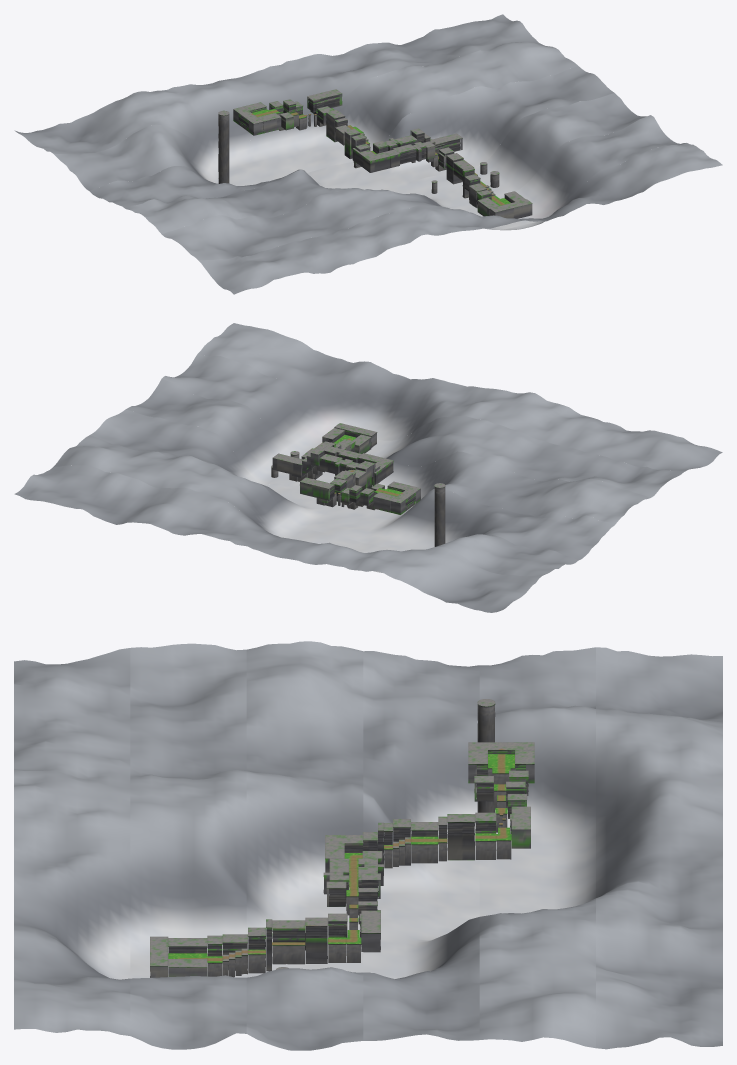
File: eagle_cliffs_terrain.glb
The picture shows the model from 3 angles, top to bottom: view 1: azimuth 30°, elevation 25°; view 2: azimuth 150°, elevation 25°; view 3: azimuth 270°, elevation 25°; orthographic projection. The views are drawn at different scales.
Visible parts, largest first — view 1: backdrop_4, backdrop_5, backdrop_1, backdrop_3, backdrop_0, backdrop_2, terrain_J, terrain_F, terrain_E, terrain_A, terrain_D, terrain_C (+4 smaller); view 2: backdrop_0, backdrop_5, backdrop_1, backdrop_3, backdrop_2, backdrop_4, terrain_J, terrain_D, terrain_H, terrain_A, terrain_F, terrain_E (+1 smaller); view 3: backdrop_5, backdrop_0, backdrop_1, backdrop_2, backdrop_4, backdrop_3, terrain_F, terrain_D, terrain_J, terrain_C, terrain_B, terrain_G (+4 smaller).
Part boxes in pixels (bbox=[...]): backdrop_4: bbox=[53, 42, 577, 190]; backdrop_5: bbox=[14, 14, 541, 153]; backdrop_1: bbox=[162, 115, 685, 260]; backdrop_3: bbox=[89, 66, 614, 208]; backdrop_0: bbox=[198, 143, 722, 294]; backdrop_2: bbox=[126, 93, 646, 234]; terrain_J: bbox=[218, 102, 281, 183]; terrain_F: bbox=[335, 125, 390, 172]; terrain_E: bbox=[373, 135, 426, 167]; terrain_A: bbox=[477, 191, 532, 218]; terrain_D: bbox=[410, 128, 462, 171]; terrain_C: bbox=[431, 152, 499, 193]; backdrop_0: bbox=[198, 323, 722, 470]; backdrop_5: bbox=[14, 465, 541, 612]; backdrop_1: bbox=[162, 353, 685, 497]; backdrop_3: bbox=[90, 409, 614, 560]; backdrop_2: bbox=[126, 379, 649, 525]; backdrop_4: bbox=[54, 435, 578, 576]; terrain_J: bbox=[373, 481, 445, 546]; terrain_D: bbox=[272, 445, 333, 481]; terrain_H: bbox=[300, 477, 358, 509]; terrain_A: bbox=[322, 423, 377, 453]; terrain_F: bbox=[348, 455, 393, 490]; terrain_E: bbox=[319, 447, 372, 475]; backdrop_5: bbox=[596, 647, 722, 1049]; backdrop_0: bbox=[14, 648, 130, 1035]; backdrop_1: bbox=[130, 643, 246, 1049]; backdrop_2: bbox=[246, 641, 363, 1050]; backdrop_4: bbox=[479, 647, 595, 1048]; backdrop_3: bbox=[363, 651, 479, 1040]; terrain_F: bbox=[325, 819, 438, 875]; terrain_D: bbox=[326, 873, 380, 962]; terrain_J: bbox=[468, 699, 534, 812]; terrain_C: bbox=[272, 917, 346, 969]; terrain_B: bbox=[207, 919, 272, 977]; terrain_G: bbox=[438, 812, 496, 861].
Bounding box in the file's own units: 602 × 121 × 469.
